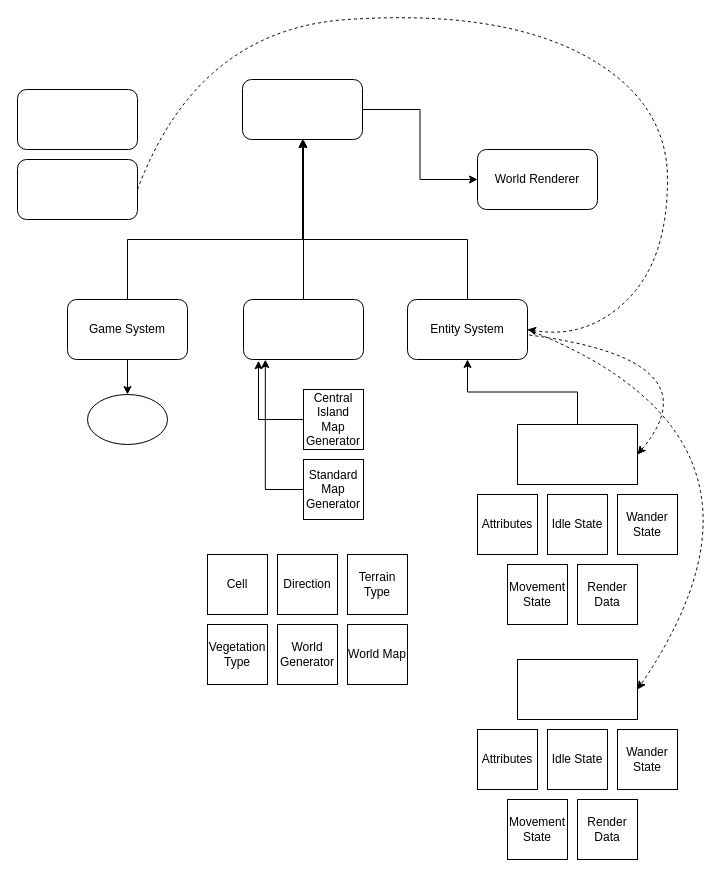
Image size: 721x877. Some labels were removed from this diagram. Here are the shapes that lost their labels. From the top down, the centre of each, then its label:
At point (77, 119): "Camera Controller".
At point (302, 109): "Game State Manager".
At point (77, 189): "Player Interface".
At point (303, 329): "Map System".
At point (127, 419): "Tick Event".
At point (577, 454): "Dog".
At point (577, 689): "Human".
